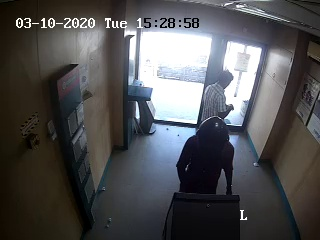helmet: (194, 117, 234, 156)
